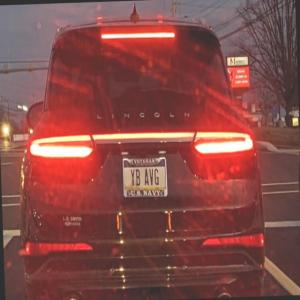Plate: (122, 157, 167, 198)
